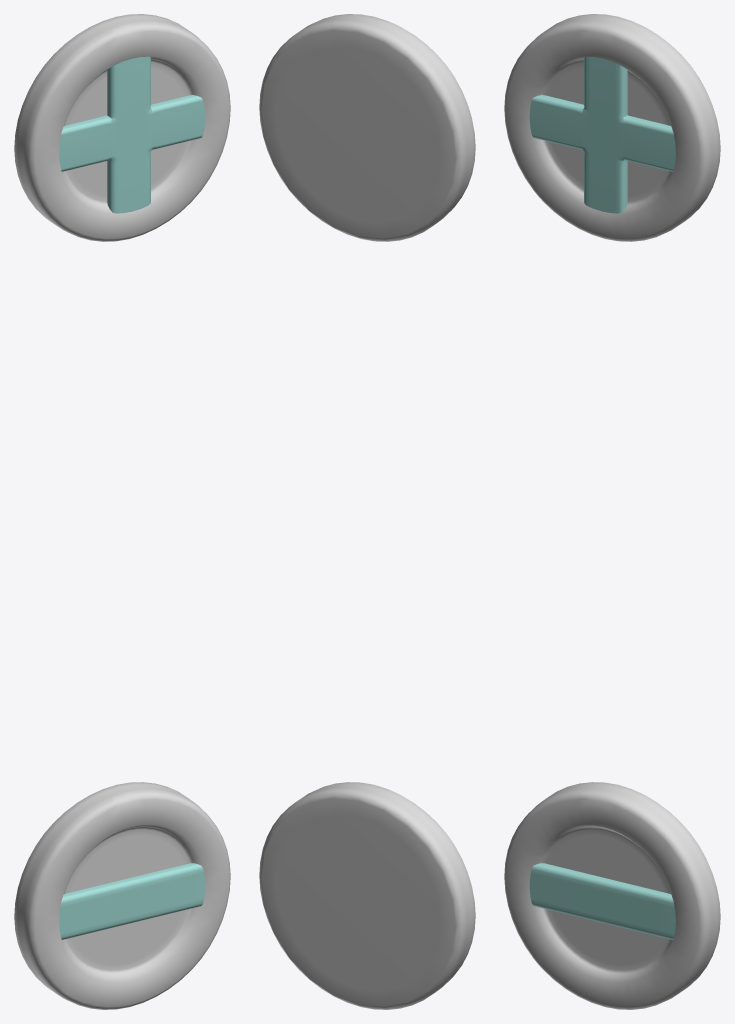
Rendered from camera-zoom.fbx.
3 views of the same model, side by side, from view 1: azimuth 30°, elevation 25°; view 2: azimuth 150°, elevation 25°; view 3: azimuth 330°, elevation 25° (orthographic).
Visible parts, largest first — view 1: pasted__pasted__centerMesh3, pasted__pasted__centerMesh, pasted__pCube8, pasted__pCube6; view 2: pasted__pasted__centerMesh, pasted__pasted__centerMesh3; view 3: pasted__pasted__centerMesh3, pasted__pasted__centerMesh, pasted__pCube8, pasted__pCube6.
Part boxes in pixels (x1,y1,x2,y2): pasted__pasted__centerMesh3: (14,782,230,1009); pasted__pasted__centerMesh: (14,14,230,241); pasted__pCube8: (59,56,205,213); pasted__pCube6: (59,863,205,939); pasted__pasted__centerMesh: (259,14,475,241); pasted__pasted__centerMesh3: (259,782,475,1009); pasted__pasted__centerMesh3: (504,782,720,1009); pasted__pasted__centerMesh: (504,14,720,241); pasted__pCube8: (529,56,675,213); pasted__pCube6: (529,863,675,939).
Bounding box in the file's own units: 1.67 × 7.67 × 0.273.
